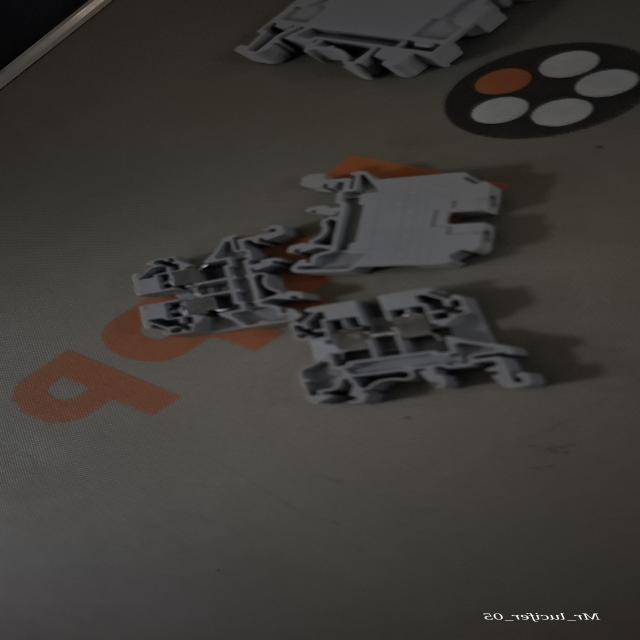Inverted: (258, 154, 553, 278)
Pass: (289, 284, 568, 408), (105, 217, 341, 350)
